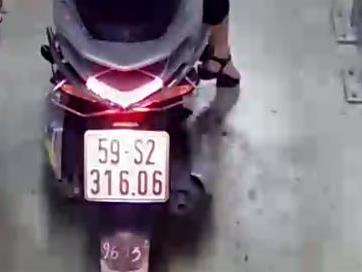num_plate: (83, 129, 170, 203)
